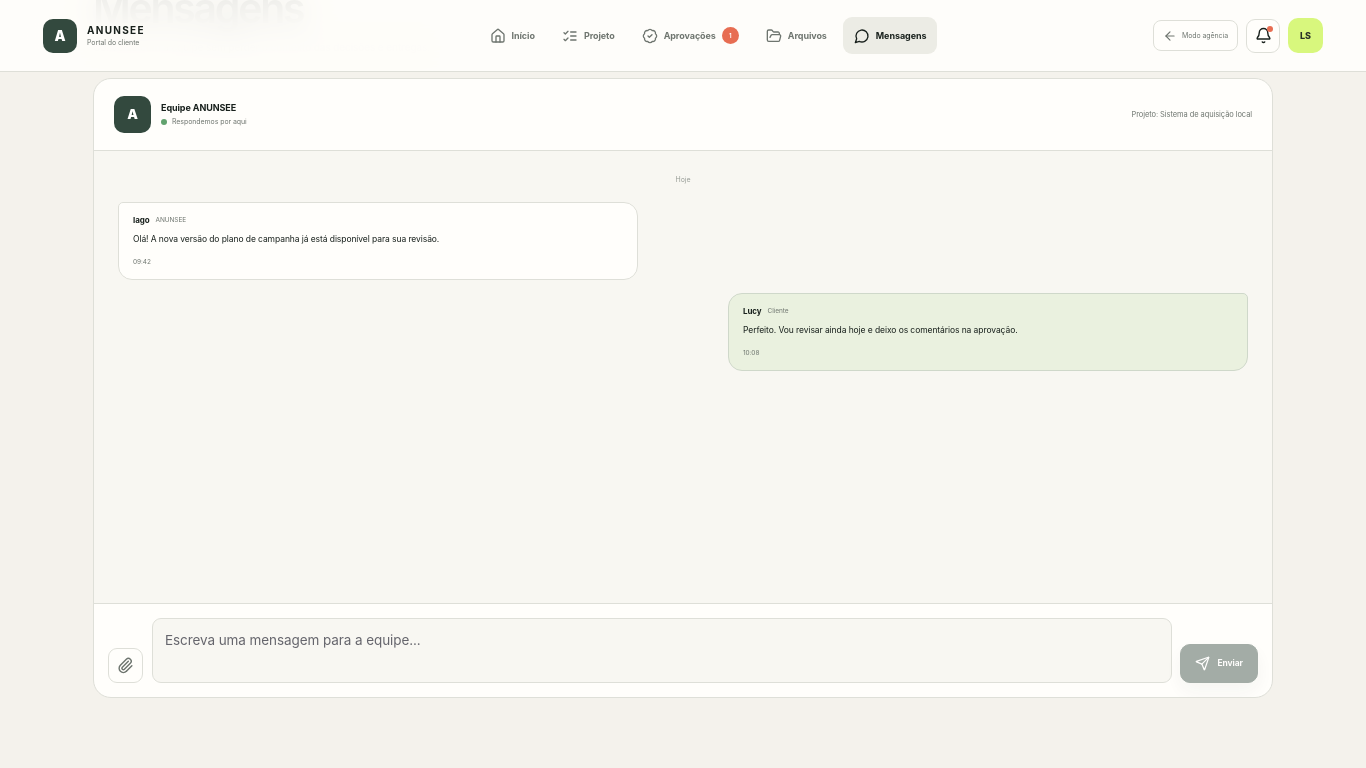
Test: core interactions › adds a message to the client conversation
(page scrolled)
In the text box with placeholder "Escreva uma mensagem para a equipe...": (662, 650) [152, 618, 1172, 682], type "Mensagem enviada pelo portal"
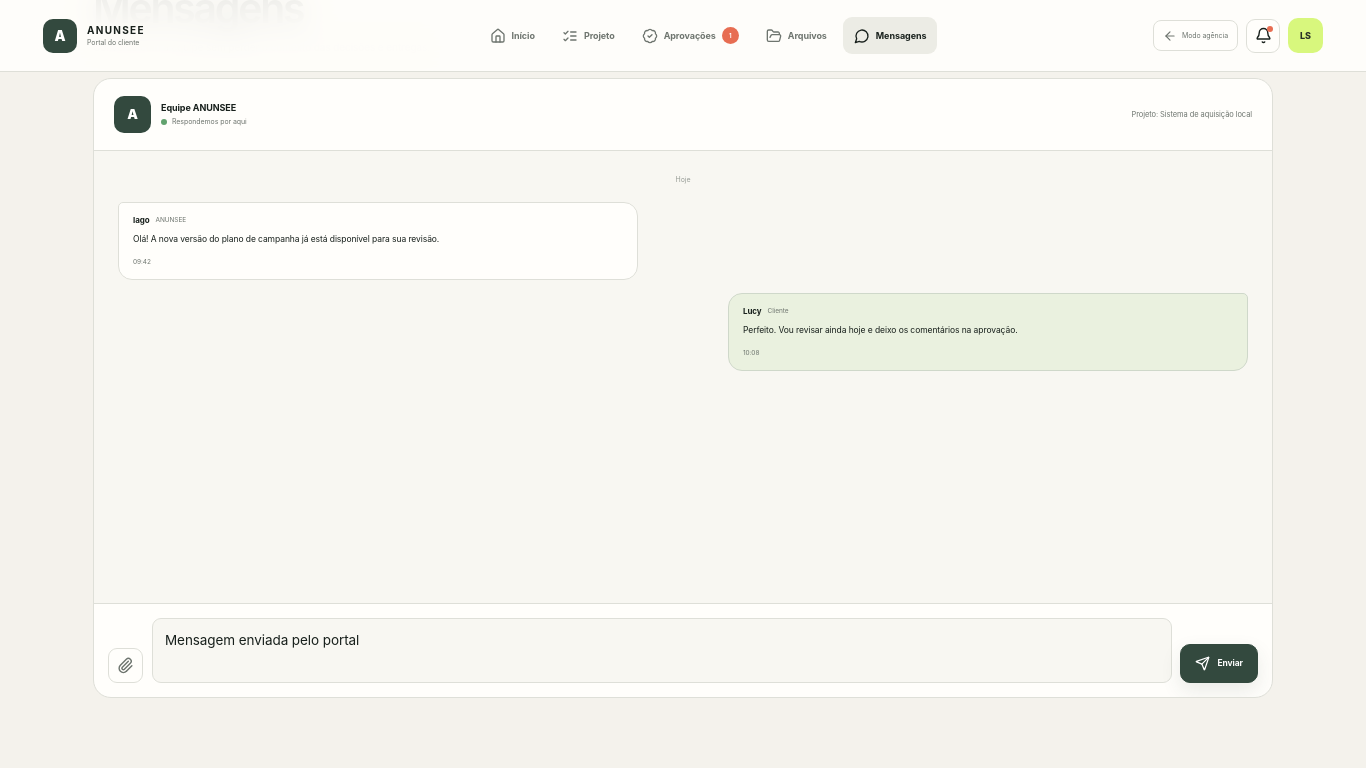
Click the button "Enviar": click(1219, 663) [1180, 644, 1258, 682]
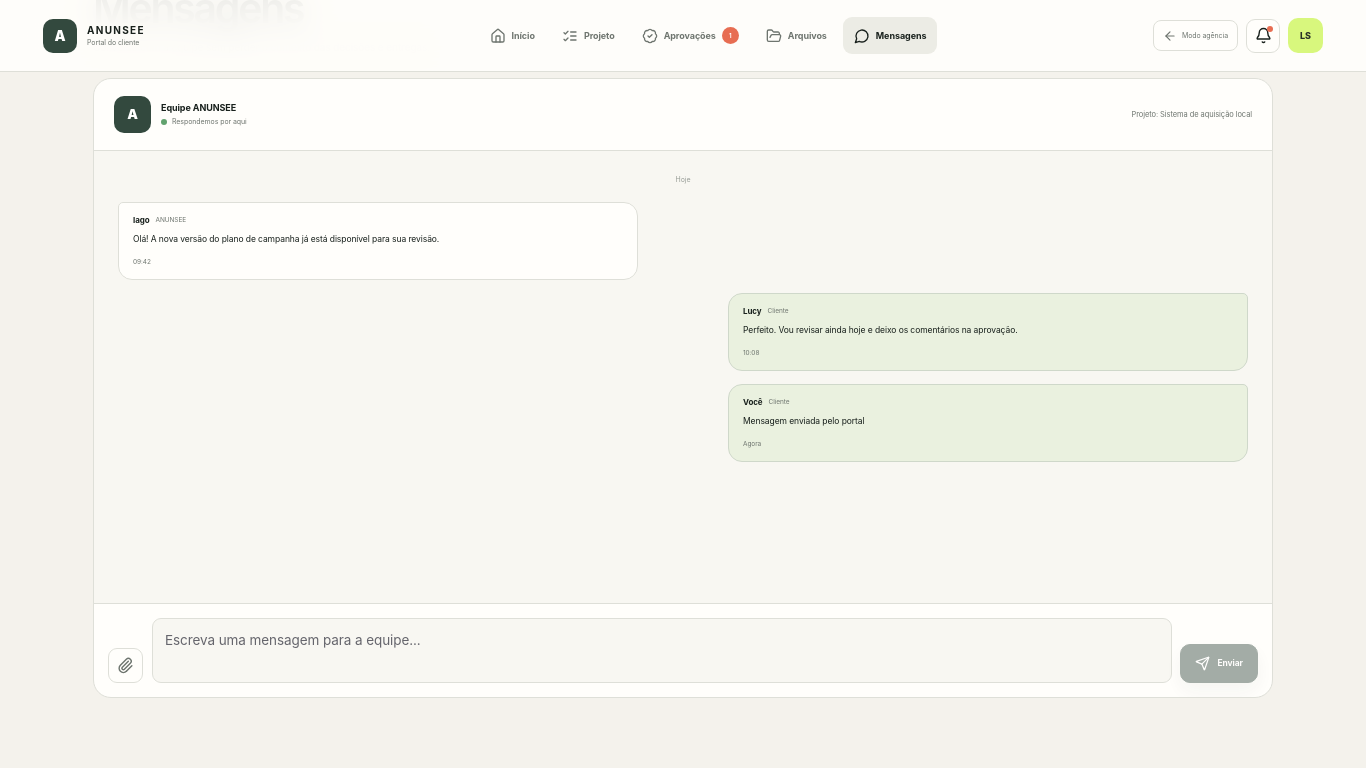
Expected: the text "Mensagem enviada pelo portal" is shown, [743, 416, 864, 426]
